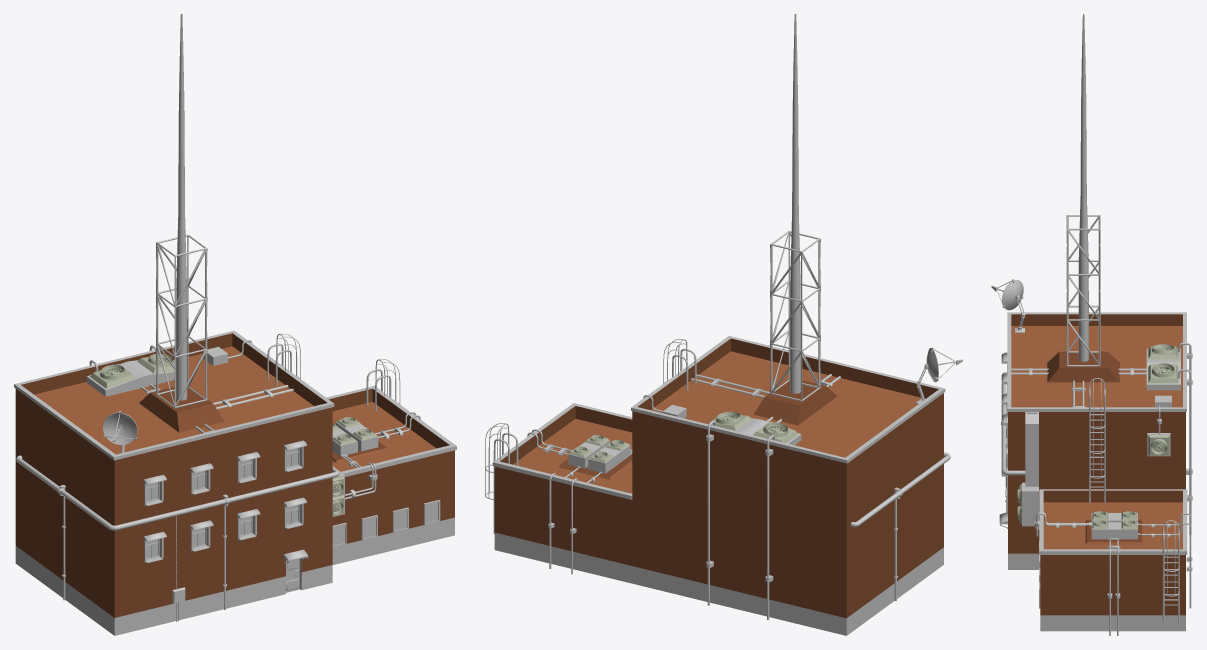
Rendered from Building.obj.
3 views of the same model, side by side, from view 1: azimuth 30°, elevation 25°; view 2: azimuth 150°, elevation 25°; view 3: azimuth 270°, elevation 25° (orthographic). The views are drawn at different scales.
Parts seen in each view (by area): view 1: Plane, Plane.022_Plane.017, Circle.003_Circle.008, Circle.010_Circle.001; view 2: Plane, Plane.022_Plane.017; view 3: Plane, Plane.022_Plane.017, Circle.003_Circle.008, Circle.011_Circle.000, Plane.014_Plane.007, Circle.010_Circle.001, Circle.008_Circle.003, Plane.016_Plane.008, Plane.017_Plane.010, Plane.019_Plane.005.
Part boxes in pixels (x1,y1,x2,y2): Plane: (14,330,456,635); Plane.022_Plane.017: (16,14,420,621); Circle.003_Circle.008: (102,411,137,453); Circle.010_Circle.001: (90,363,136,388); Plane: (492,336,945,635); Plane.022_Plane.017: (527,14,950,619); Plane: (999,312,1187,631); Plane.022_Plane.017: (1001,14,1192,635); Circle.003_Circle.008: (991,279,1025,332); Circle.011_Circle.000: (1148,363,1178,383); Plane.014_Plane.007: (1089,411,1105,464); Circle.010_Circle.001: (1148,344,1178,359); Circle.008_Circle.003: (1148,435,1169,455); Plane.016_Plane.008: (1162,578,1179,621); Plane.017_Plane.010: (1089,460,1105,502); Plane.019_Plane.005: (1162,553,1179,582).
Bounding box in the file's own units: 24.78 × 34.8 × 12.45.
